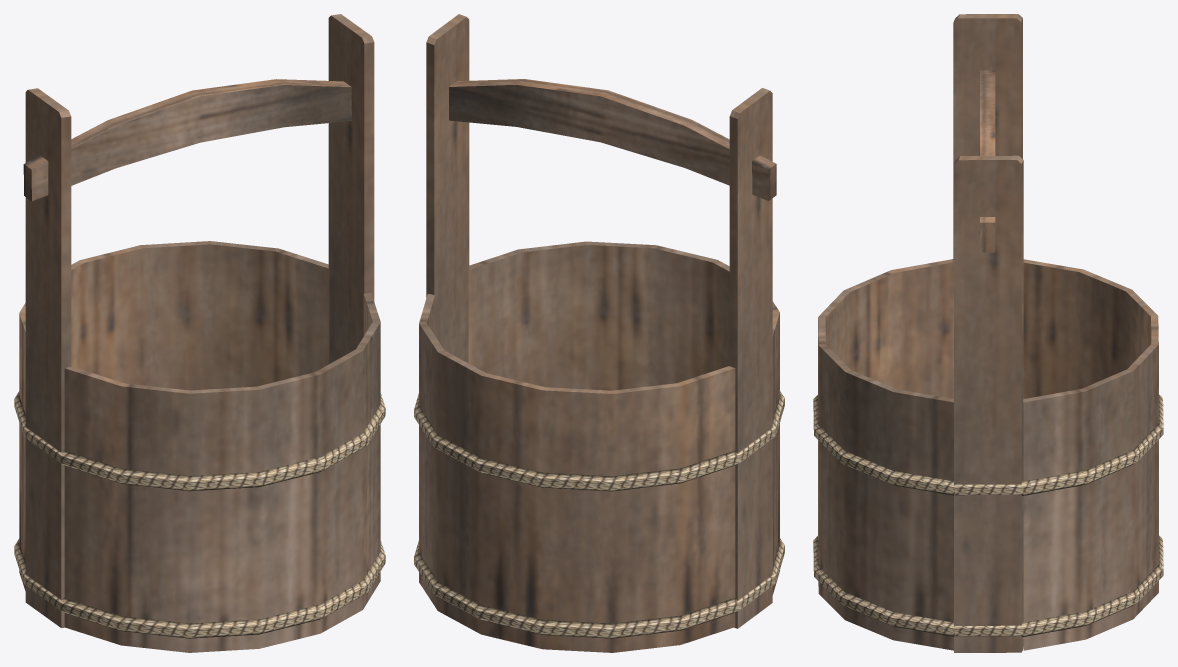
File: jov_vat03.fbx
3 views of the same model, side by side, from view 1: azimuth 30°, elevation 25°; view 2: azimuth 150°, elevation 25°; view 3: azimuth 270°, elevation 25° (orthographic). The views are drawn at different scales.
Visible parts, largest first — view 1: jov_vat03; view 2: jov_vat03; view 3: jov_vat03.
Boxes of the visible parts, left/top/right/bottom form: jov_vat03: left=14, top=14, right=385, bottom=652; jov_vat03: left=414, top=14, right=784, bottom=652; jov_vat03: left=813, top=14, right=1163, bottom=652.
Bounding box in the file's own units: 53.26 × 77.78 × 50.09.
